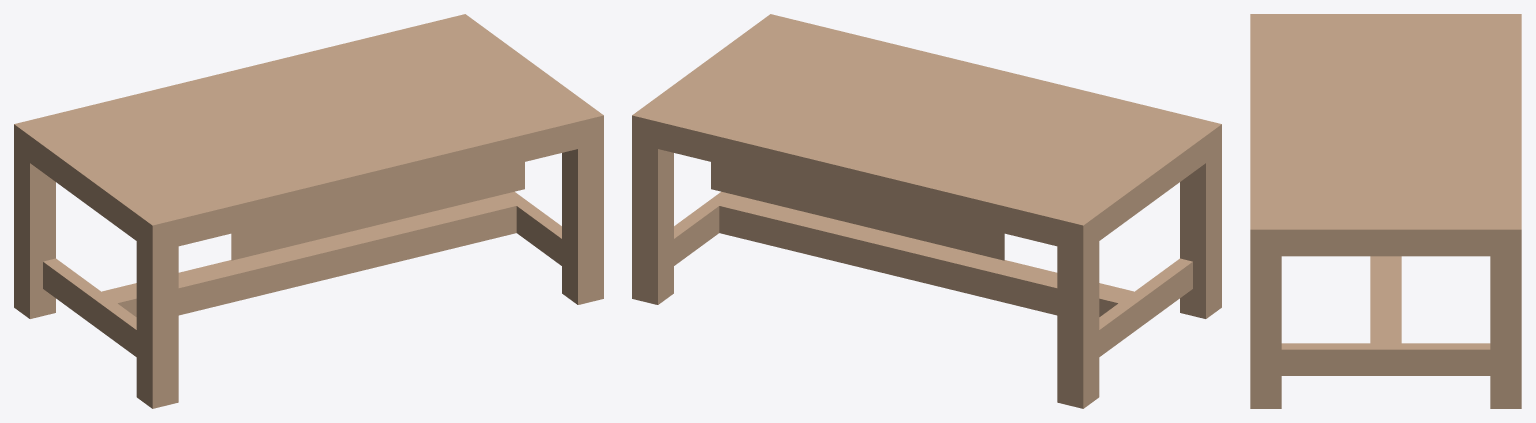
The model's file is table_cloth.glb.
The picture shows the model from 3 angles, left to right: view 1: azimuth 30°, elevation 25°; view 2: azimuth 150°, elevation 25°; view 3: azimuth 270°, elevation 25°; orthographic projection. The views are drawn at different scales.
Visible parts, largest first — view 1: tableCloth(Clone); view 2: tableCloth(Clone); view 3: tableCloth(Clone).
Part boxes in pixels (x1,y1,x2,y2): tableCloth(Clone): (14,14,603,408); tableCloth(Clone): (632,14,1221,408); tableCloth(Clone): (1250,14,1521,408).
Size of the model in its own units: 1.68 by 0.6535 by 0.8947.
